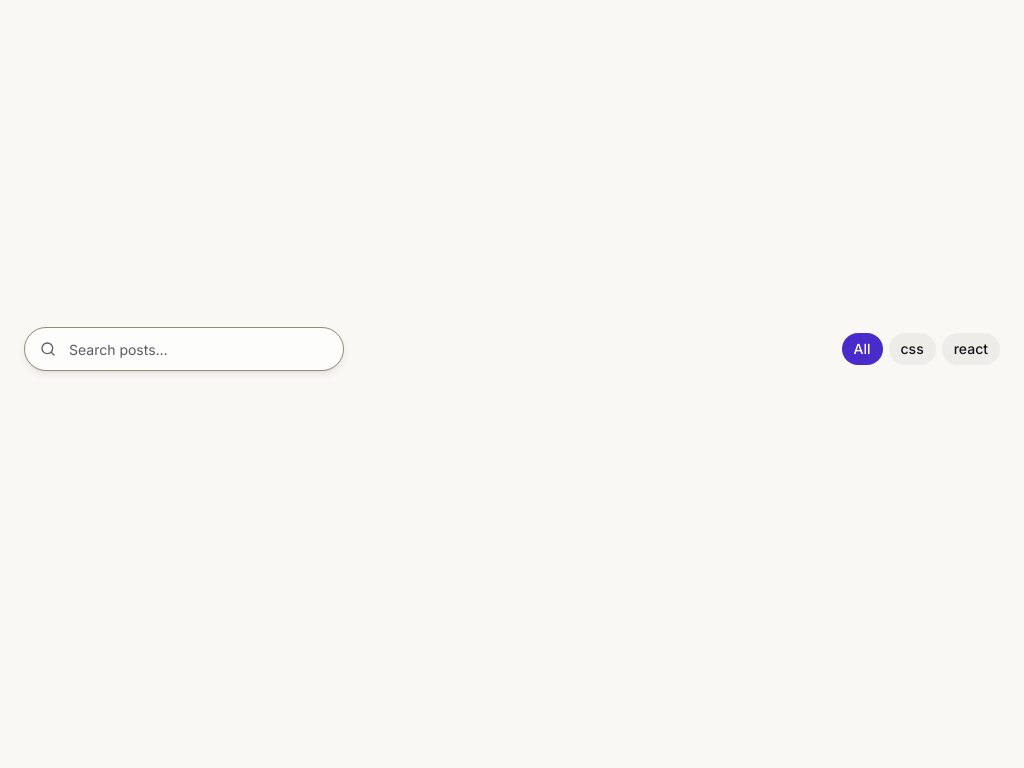
BlogListPage › says when nothing matches, and clears
This screenshot has width=1024, height=768.
Type "zzz" into the search field labelled "Search posts".
click(184, 349); type("zzz")  # box [24,327,344,371]
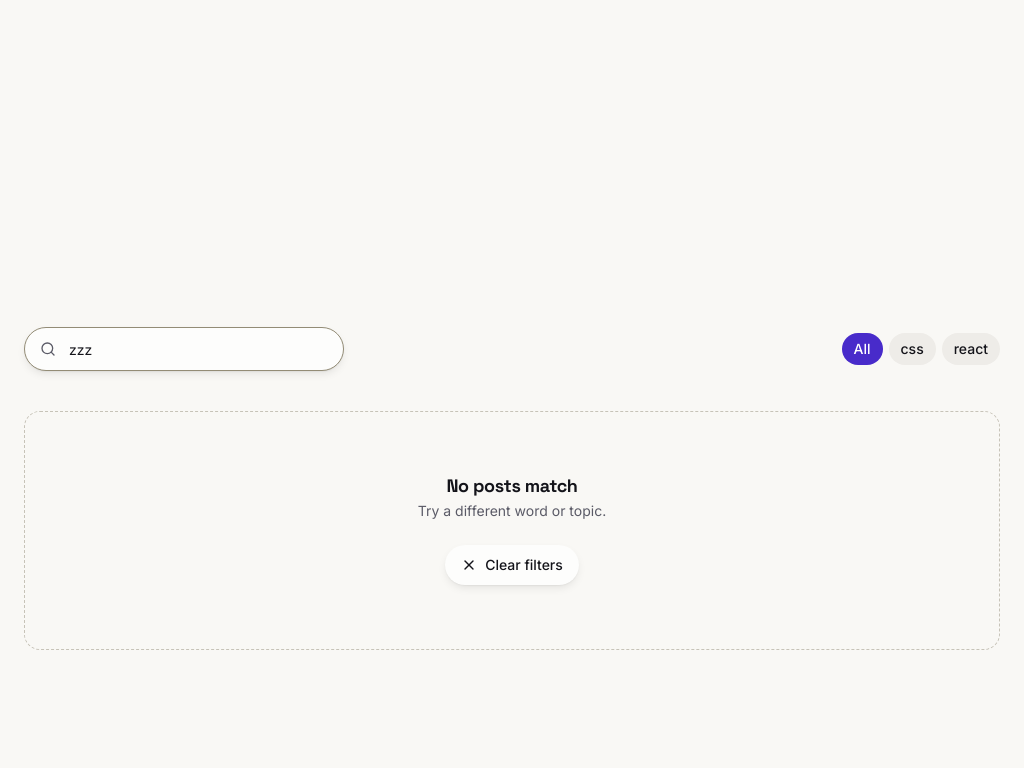
Result: the text "No posts match" is shown at [446,474,578,497]
Click the button "Clear filters".
click(512, 565)  # box [445,545,579,585]
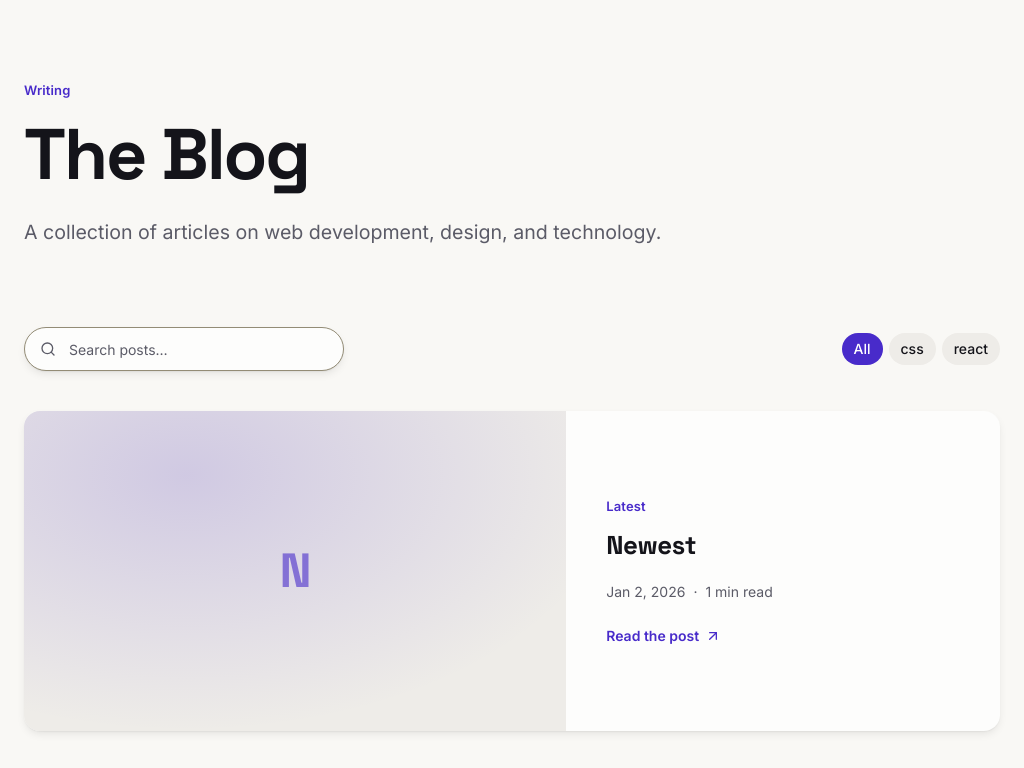
Result: the heading "Newest" is shown at [606,529,696,562]
